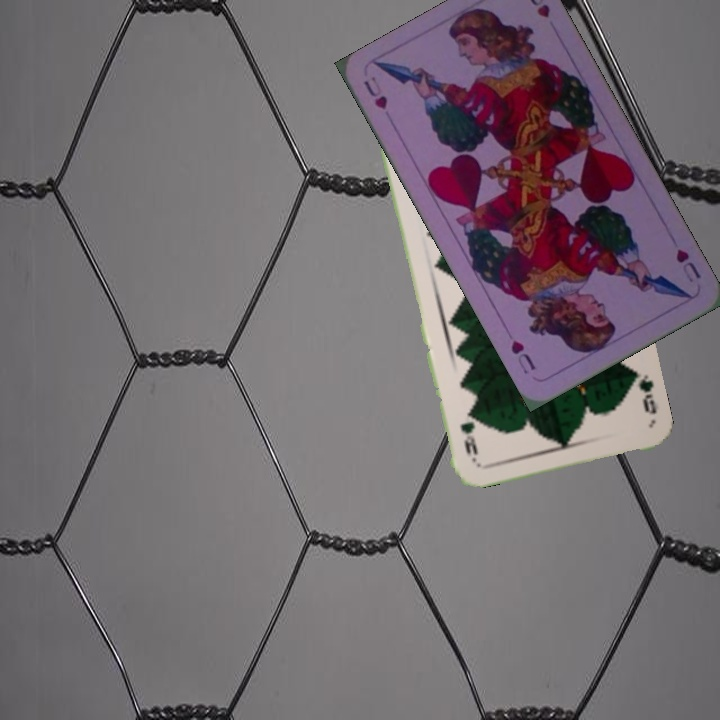G9: (635, 370, 659, 417)
HU: (671, 245, 704, 286), (359, 76, 391, 113)
